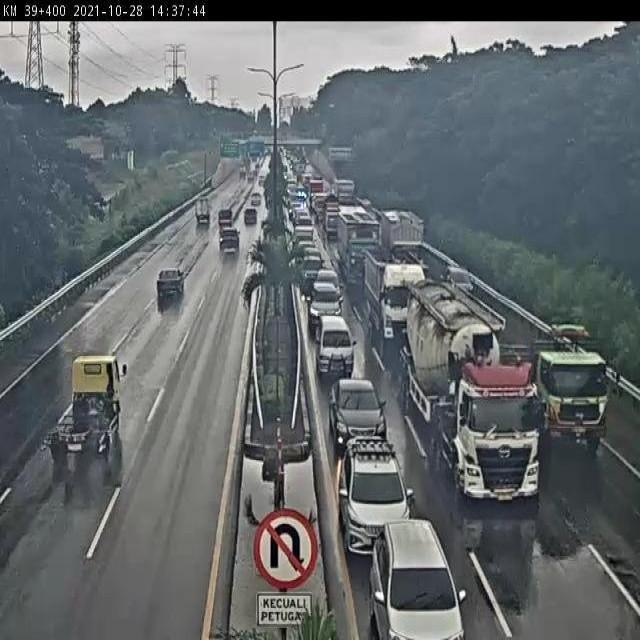car: (368, 523, 467, 637), (337, 435, 411, 549), (329, 376, 388, 451), (314, 314, 357, 378), (307, 281, 343, 323), (154, 267, 185, 301), (315, 265, 344, 300), (302, 254, 326, 286), (217, 226, 241, 254)
truck: (405, 279, 536, 496), (510, 324, 619, 455), (44, 353, 124, 459), (366, 245, 430, 340), (335, 207, 382, 285)
